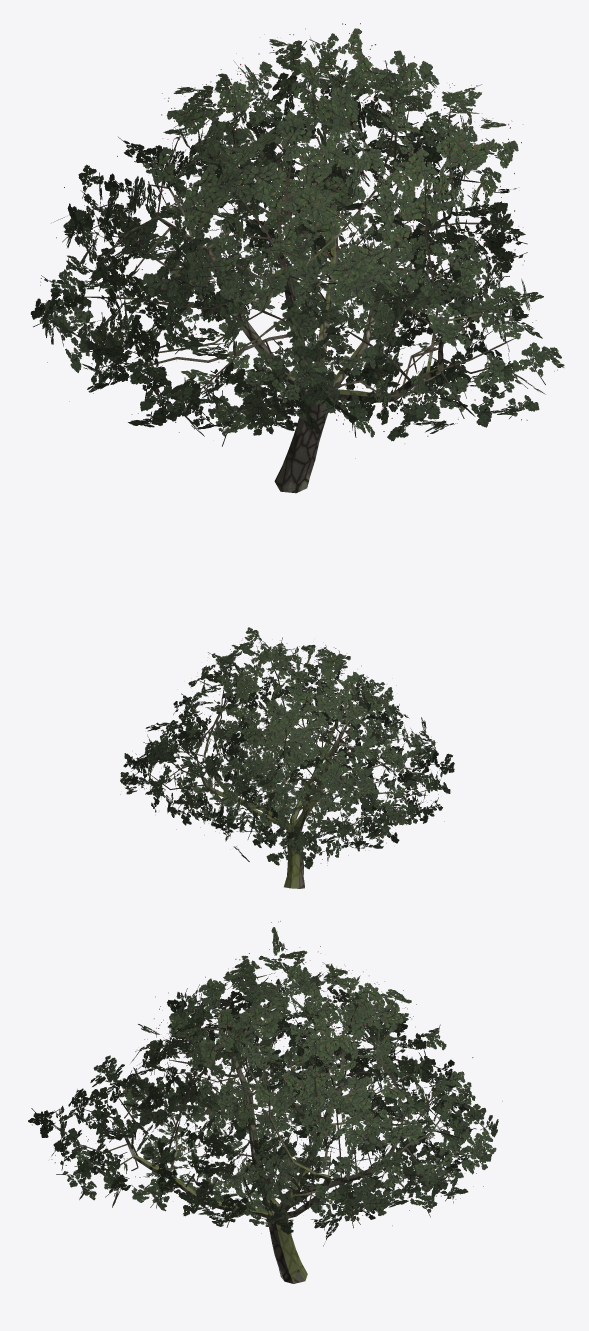
Rendered from hawthorn.glb.
3 views of the same model, one above another, from view 1: azimuth 30°, elevation 25°; view 2: azimuth 150°, elevation 25°; view 3: azimuth 270°, elevation 25° (orthographic). The views are drawn at different scales.
Parts seen in each view (by area): view 1: hawthorn_cards_LOD0, hawthorn_LOD0; view 2: hawthorn_cards_LOD0, hawthorn_LOD0; view 3: hawthorn_cards_LOD0, hawthorn_LOD0.
Part boxes in pixels (bbox=[...]): hawthorn_cards_LOD0: bbox=[30, 23, 564, 458]; hawthorn_LOD0: bbox=[84, 82, 513, 493]; hawthorn_cards_LOD0: bbox=[120, 627, 454, 875]; hawthorn_LOD0: bbox=[148, 661, 426, 888]; hawthorn_cards_LOD0: bbox=[28, 921, 502, 1246]; hawthorn_LOD0: bbox=[72, 991, 463, 1283].
Size of what is drawn, in the model's own units: 8.01 by 5.42 by 8.
Materials: 2 (2 with a texture image).
